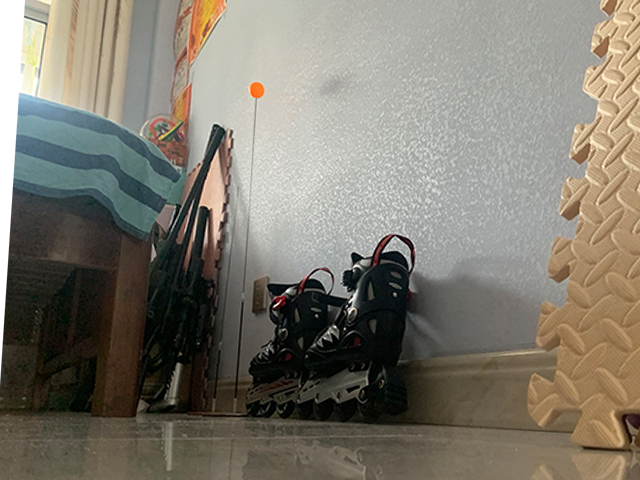bed: (15, 93, 182, 421)
